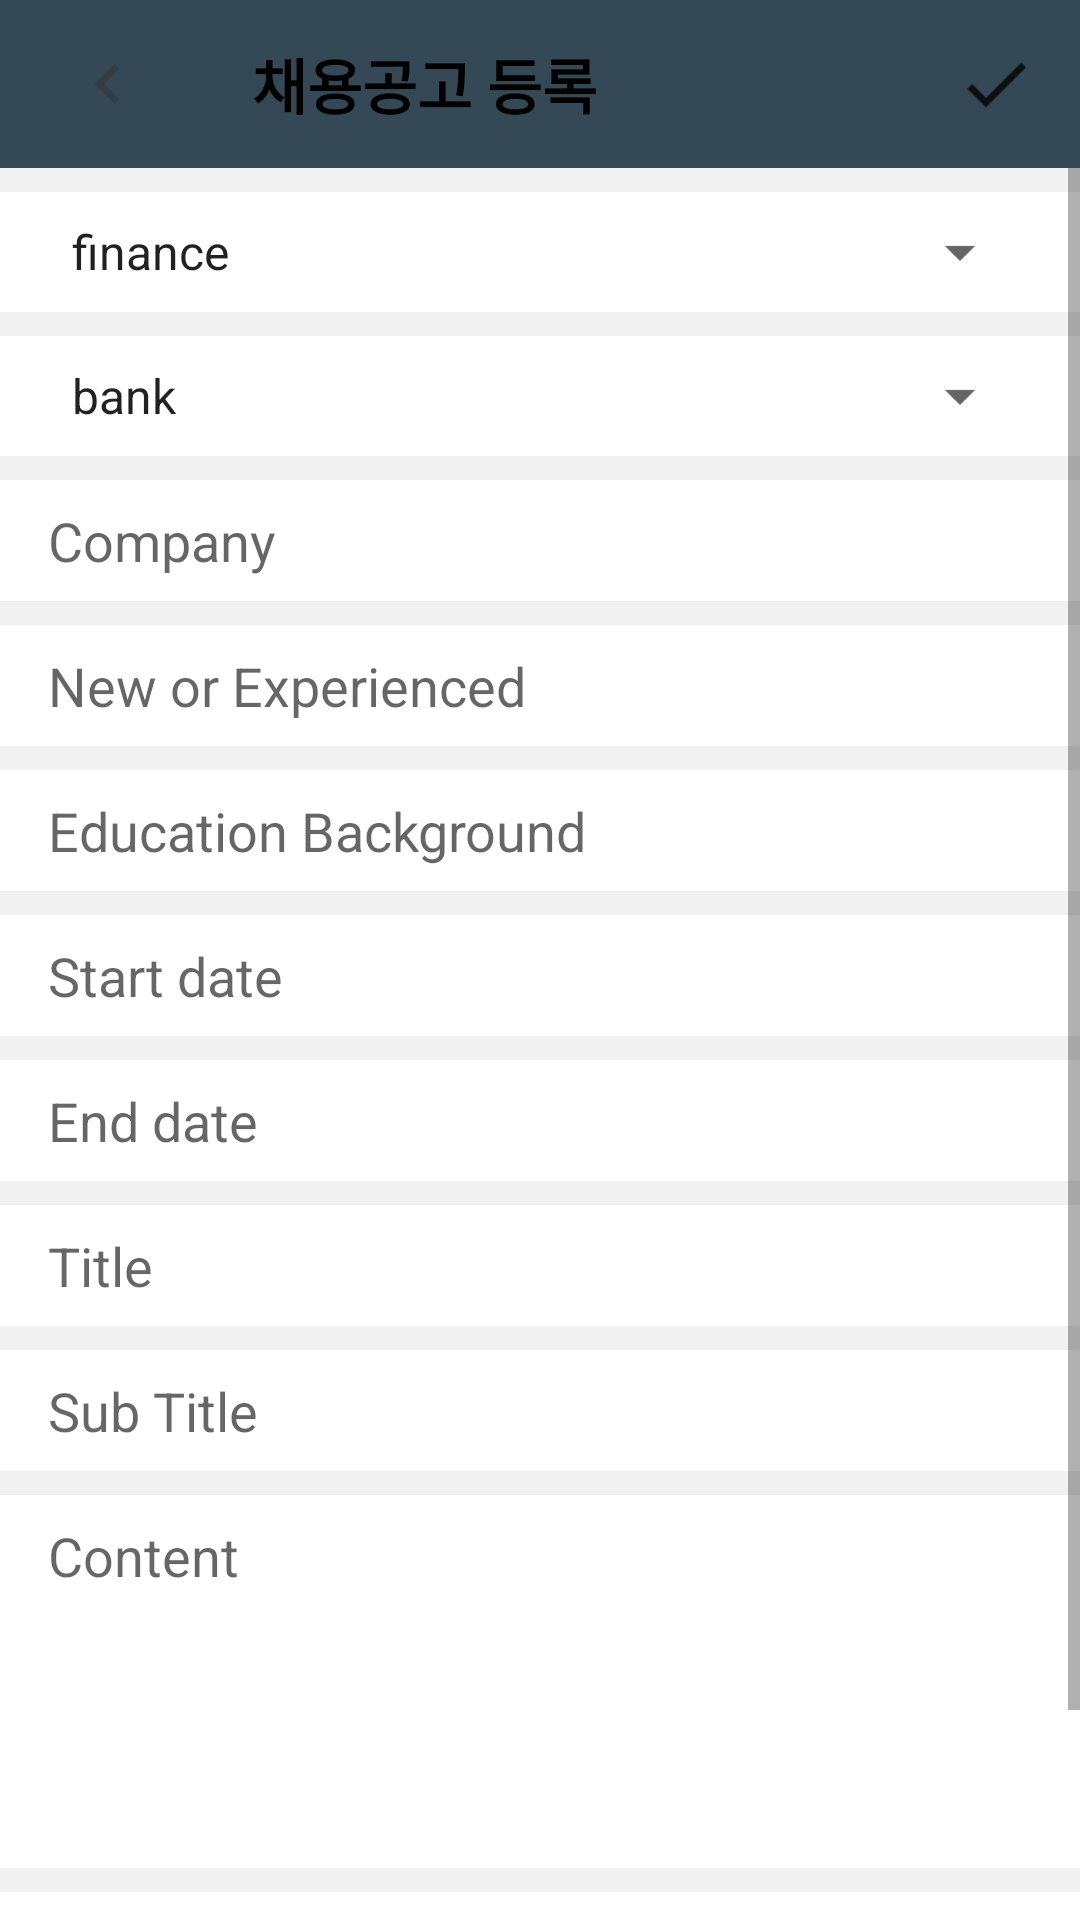

Where icons sit on this 1080 × 1920 app screen, as detection(x1, y1, x2, y2):
check: detection(967, 63, 1026, 107)
